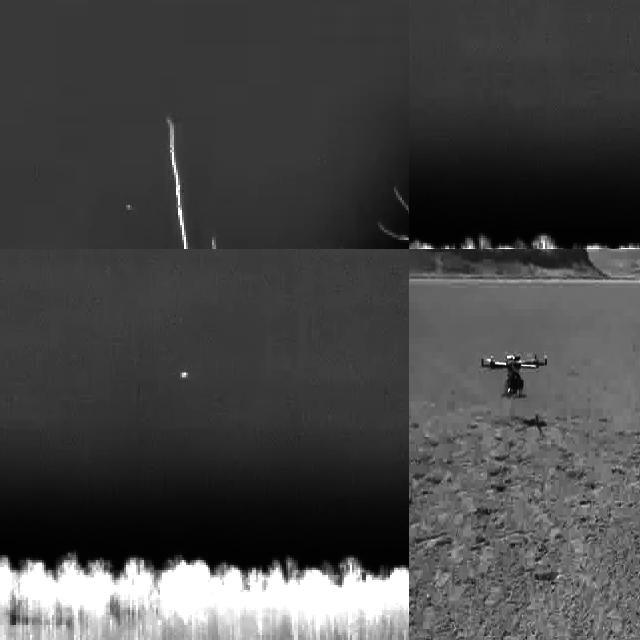0: (113, 199, 139, 219)
1: (168, 365, 192, 390)
drone: (478, 351, 550, 399)
